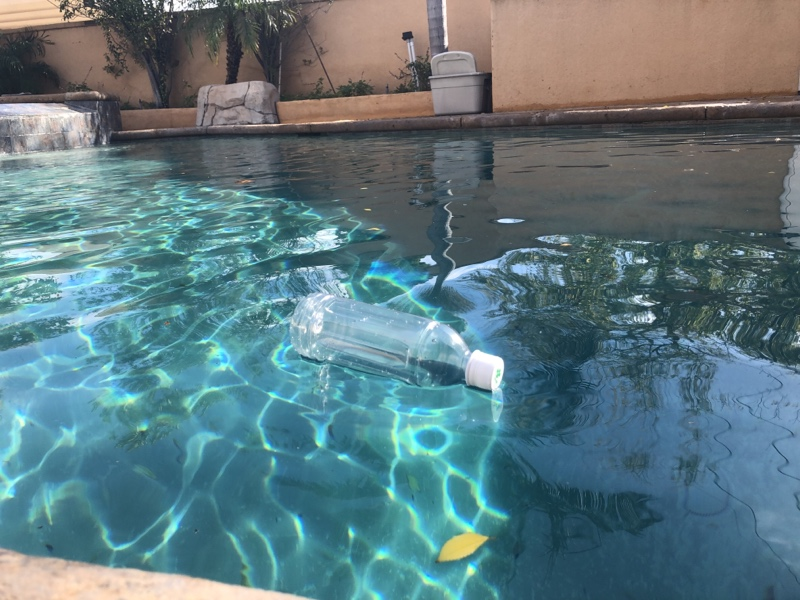Plastic Bottle: (288, 289, 506, 395)
